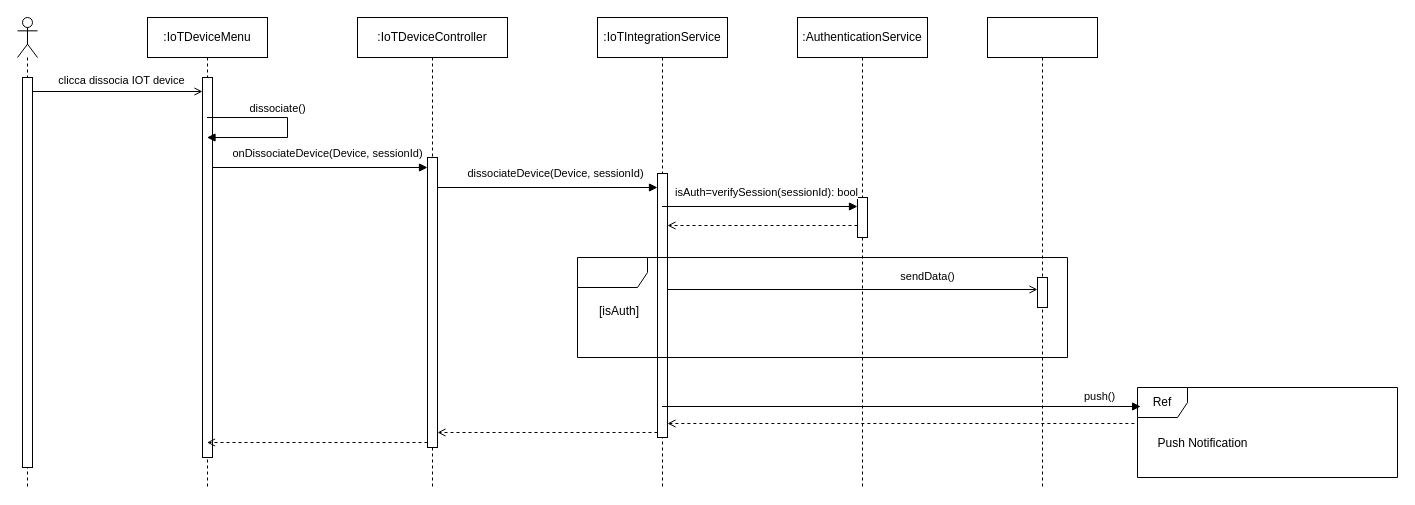
Image size: 1415x505. Some labels were removed from this diagram. Each missing label, with the centre of its shape:
:NetworkInterface: the point at 1042,252
ALT: the point at 822,307
